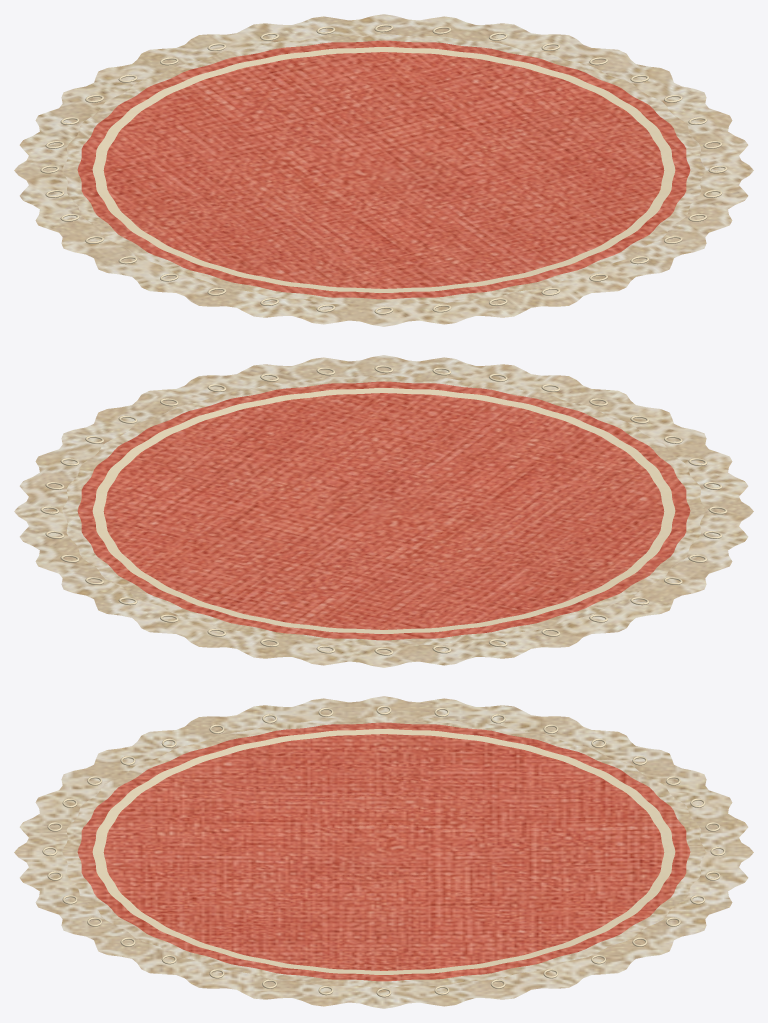
File: SM_InteriorAdditions_RoundRug.fbx
The picture shows the model from 3 angles, top to bottom: view 1: azimuth 30°, elevation 25°; view 2: azimuth 150°, elevation 25°; view 3: azimuth 270°, elevation 25°; orthographic projection.
Parts seen in each view (by area): view 1: SM_InteriorAdditions_RoundRug; view 2: SM_InteriorAdditions_RoundRug; view 3: SM_InteriorAdditions_RoundRug.
Part boxes in pixels (x1,y1,x2,y2): SM_InteriorAdditions_RoundRug: [14, 14, 753, 326]; SM_InteriorAdditions_RoundRug: [14, 355, 753, 667]; SM_InteriorAdditions_RoundRug: [14, 696, 753, 1008].
Size of what is drawn, in the model's own units: 185 by 185 by 1.5.
